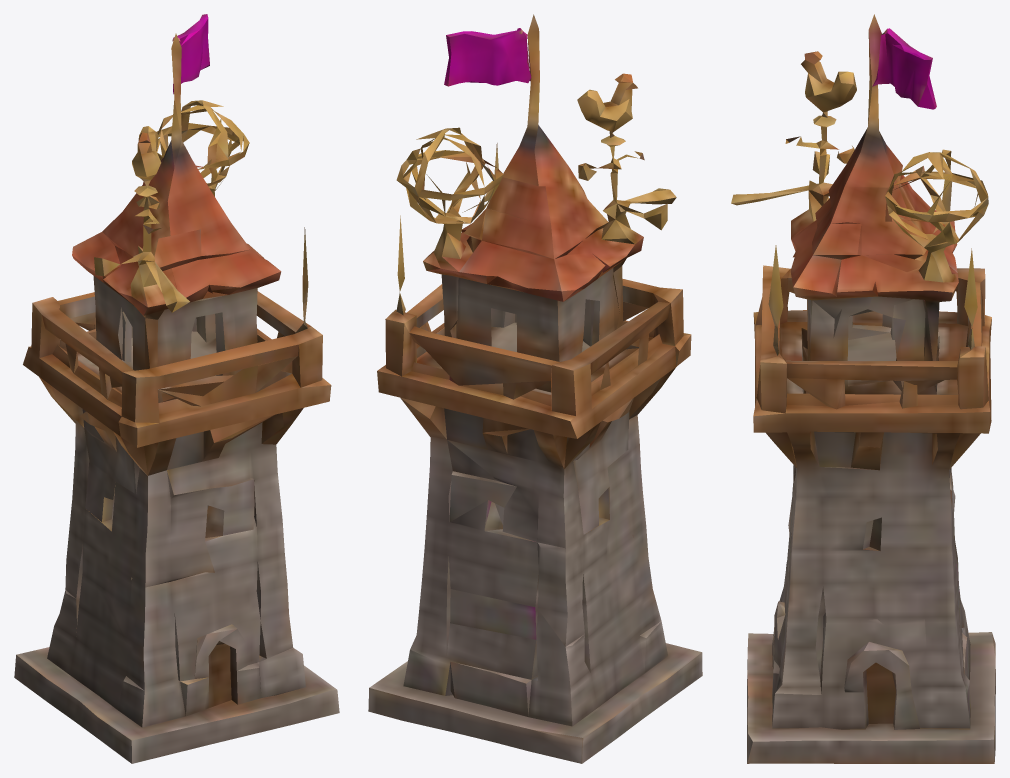
Rendered from weather_tower.lod2.glb.
3 views of the same model, side by side, from view 1: azimuth 30°, elevation 25°; view 2: azimuth 150°, elevation 25°; view 3: azimuth 270°, elevation 25° (orthographic). The views are drawn at different scales.
Parts seen in each view (by area): view 1: weather_tower.lod2_uv; view 2: weather_tower.lod2_uv; view 3: weather_tower.lod2_uv.
Part boxes in pixels (x1=…): weather_tower.lod2_uv: x1=14, y1=14, x2=339, y2=763; weather_tower.lod2_uv: x1=368, y1=14, x2=702, y2=763; weather_tower.lod2_uv: x1=731, y1=14, x2=995, y2=763.
Size of the model in its own units: 0.6261 by 1.9 by 0.6549.
Materials: 1 (1 with a texture image).
